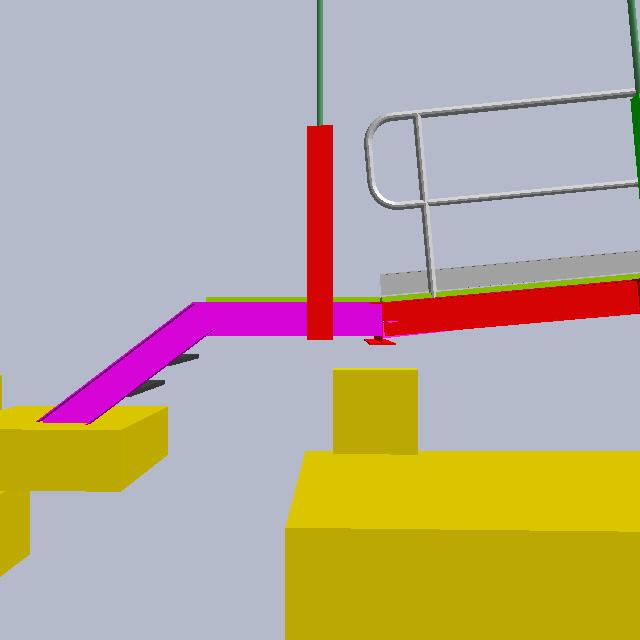Poste: (312, 1, 327, 335)
Soporte: (304, 119, 338, 345)
